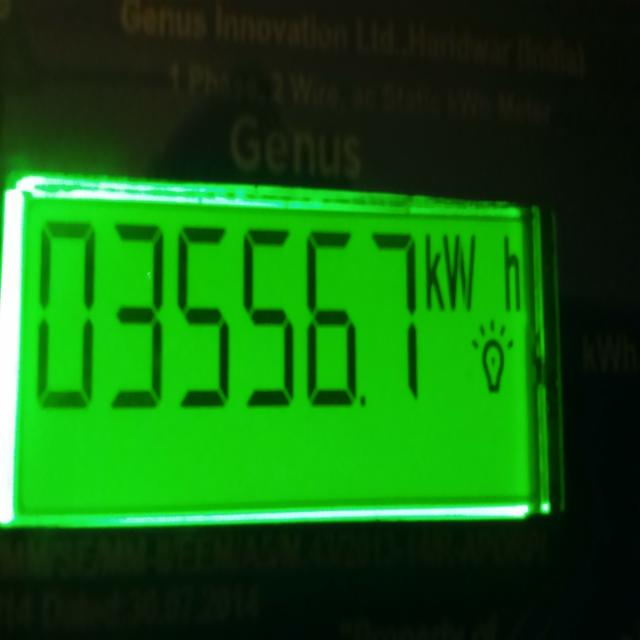.: (361, 391, 367, 409)
0: (38, 218, 95, 408)
3: (114, 220, 163, 412)
5: (176, 224, 229, 404), (245, 226, 296, 406)
6: (305, 230, 357, 408)
7: (374, 233, 418, 407)
